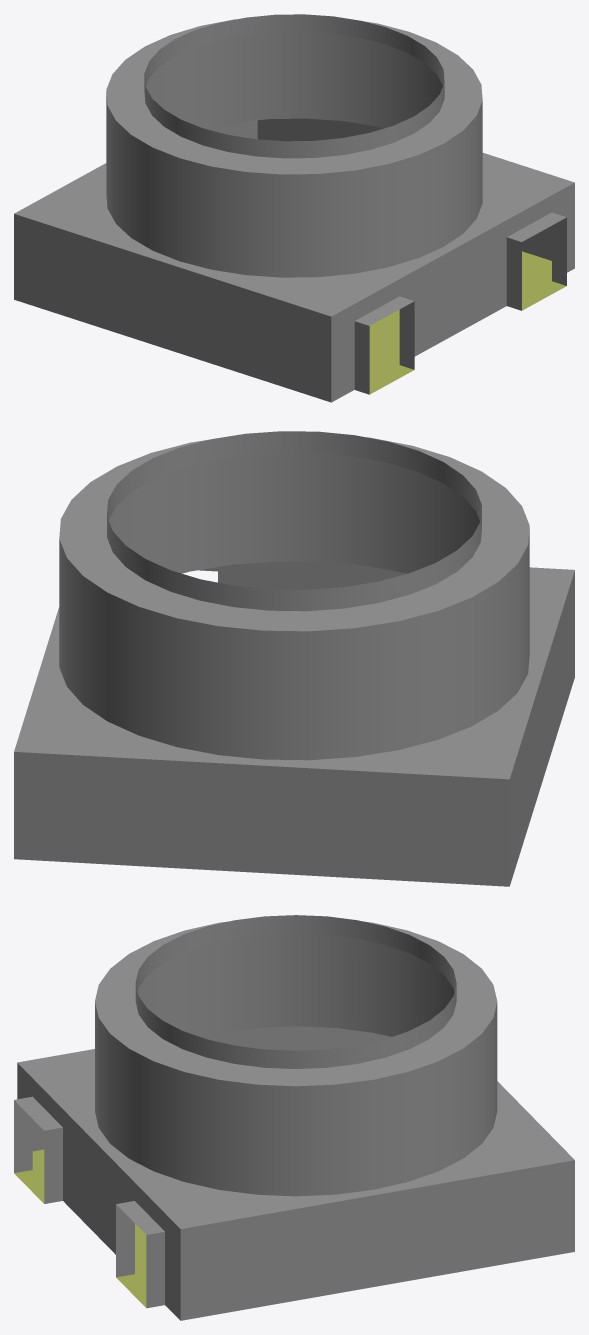
File: Level_00_SpawnRoom_A.fbx
The picture shows the model from 3 angles, top to bottom: view 1: azimuth 30°, elevation 25°; view 2: azimuth 150°, elevation 25°; view 3: azimuth 270°, elevation 25°; orthographic projection. The views are drawn at different scales.
Visible parts, largest first — view 1: Geom_SpawnRoom_A_LOD00; view 2: Geom_SpawnRoom_A_LOD00; view 3: Geom_SpawnRoom_A_LOD00.
Part boxes in pixels (x1,y1,x2,y2): Geom_SpawnRoom_A_LOD00: (14, 14, 574, 402); Geom_SpawnRoom_A_LOD00: (14, 431, 574, 886); Geom_SpawnRoom_A_LOD00: (14, 915, 574, 1320).
Size of the model in its own units: 2756 by 1200 by 2772.
